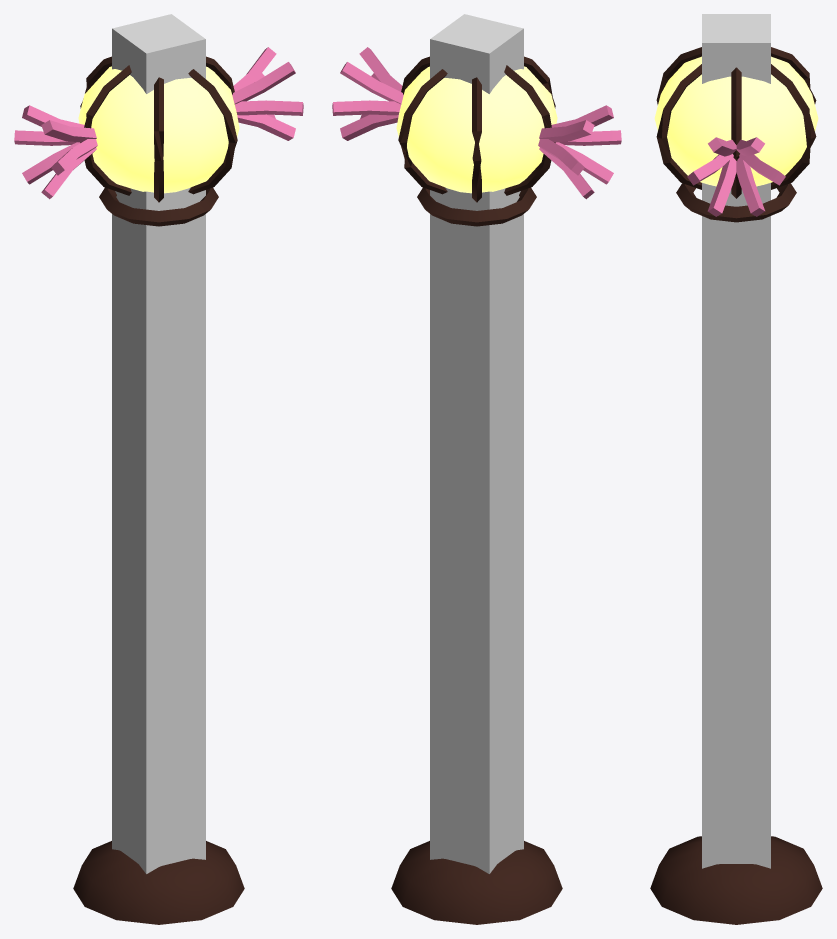
File: Candy_Lantern.fbx
3 views of the same model, side by side, from view 1: azimuth 30°, elevation 25°; view 2: azimuth 150°, elevation 25°; view 3: azimuth 270°, elevation 25° (orthographic).
Parts seen in each view (by area): view 1: COL_Candy_Lantern_0, Candy_Lantern_Glow, Candy_Lantern_Post, Candy_Lantern_Wrapper; view 2: COL_Candy_Lantern_0, Candy_Lantern_Glow, Candy_Lantern_Post, Candy_Lantern_Wrapper; view 3: COL_Candy_Lantern_0, Candy_Lantern_Post, Candy_Lantern_Glow, Candy_Lantern_Wrapper.
Boxes of the visible parts, x1,y1,x2,y2 form: COL_Candy_Lantern_0: [112, 14, 205, 873]; Candy_Lantern_Glow: [78, 66, 239, 193]; Candy_Lantern_Post: [73, 187, 244, 924]; Candy_Lantern_Wrapper: [14, 47, 303, 202]; COL_Candy_Lantern_0: [430, 14, 523, 873]; Candy_Lantern_Glow: [396, 66, 557, 193]; Candy_Lantern_Post: [391, 187, 562, 924]; Candy_Lantern_Wrapper: [332, 47, 621, 202]; COL_Candy_Lantern_0: [702, 14, 770, 868]; Candy_Lantern_Post: [650, 183, 822, 924]; Candy_Lantern_Glow: [654, 56, 818, 186]; Candy_Lantern_Wrapper: [656, 47, 816, 216].
Size of the model in its own units: 0.6809 by 2.2 by 0.4.
